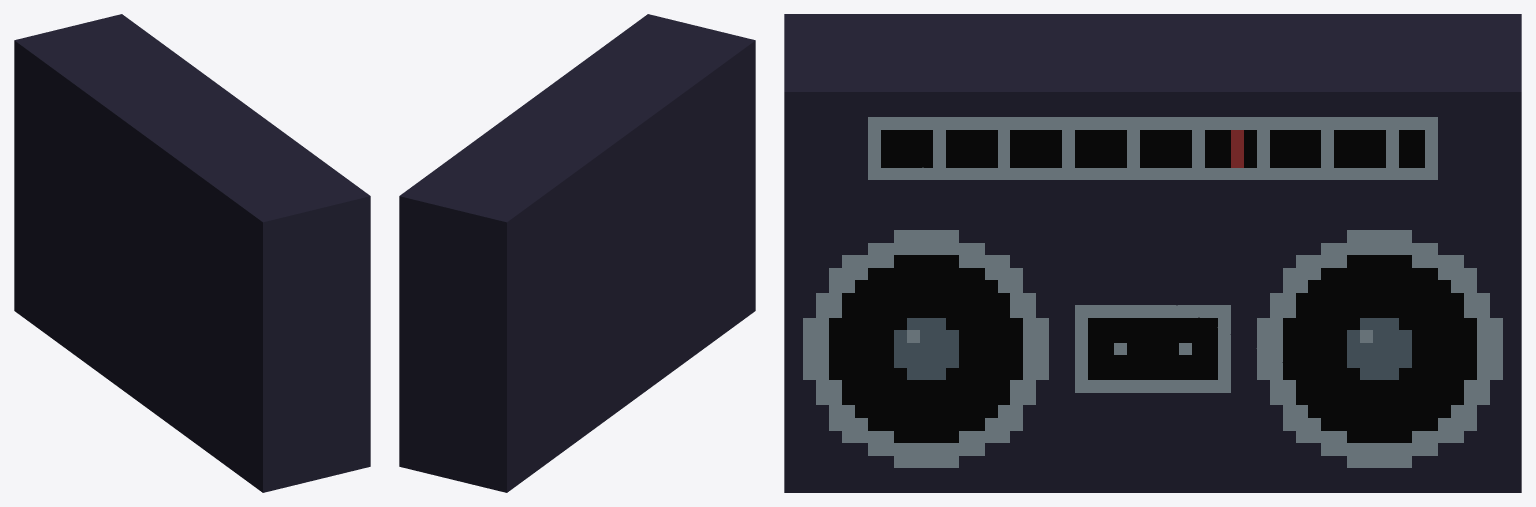
File: boombox.glb
3 views of the same model, side by side, from view 1: azimuth 30°, elevation 25°; view 2: azimuth 150°, elevation 25°; view 3: azimuth 270°, elevation 25° (orthographic). The views are drawn at different scales.
Parts seen in each view (by area): view 1: Cube; view 2: Cube; view 3: Cube.
Boxes of the visible parts, bbox=[...] form: Cube: bbox=[14, 14, 370, 492]; Cube: bbox=[399, 14, 755, 492]; Cube: bbox=[784, 14, 1521, 492].
Bounding box in the file's own units: 0.5 × 1.2 × 2.
Materials: 1 (1 with a texture image).
